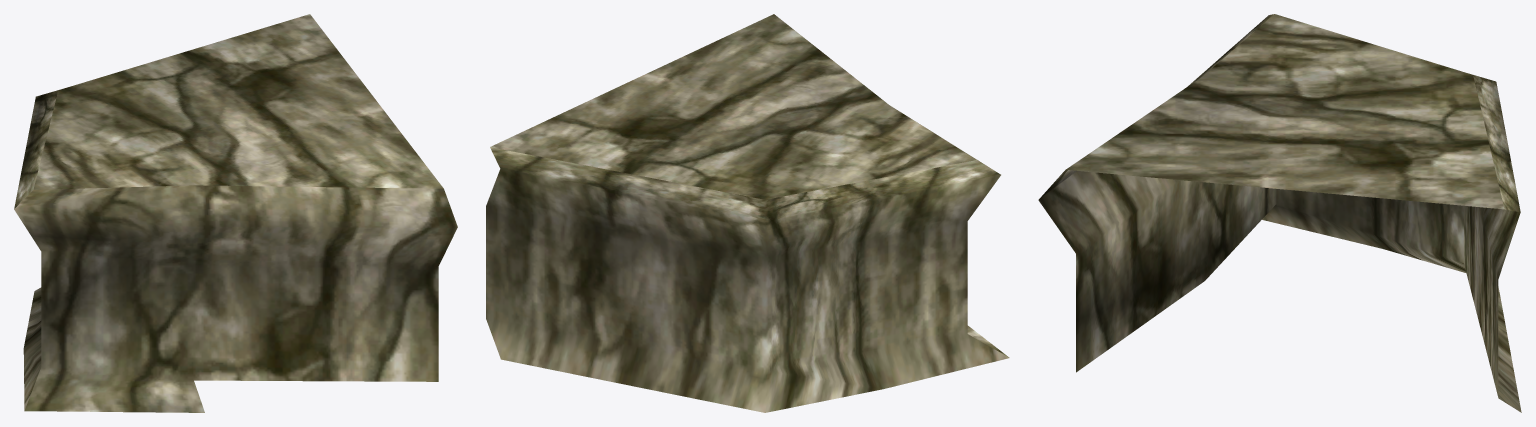
The model's file is CB_NEWPLAYSURFACE_CB_PLAYSURFACE142.fbx.
3 views of the same model, side by side, from view 1: azimuth 30°, elevation 25°; view 2: azimuth 150°, elevation 25°; view 3: azimuth 270°, elevation 25° (orthographic). The views are drawn at different scales.
Parts seen in each view (by area): view 1: CB_NEWPLAYSURFACE_CB_PLAYSURFACE142; view 2: CB_NEWPLAYSURFACE_CB_PLAYSURFACE142; view 3: CB_NEWPLAYSURFACE_CB_PLAYSURFACE142.
Part boxes in pixels (x1,y1,x2,y2): CB_NEWPLAYSURFACE_CB_PLAYSURFACE142: [14, 14, 457, 412]; CB_NEWPLAYSURFACE_CB_PLAYSURFACE142: [486, 14, 1009, 412]; CB_NEWPLAYSURFACE_CB_PLAYSURFACE142: [1038, 14, 1521, 412].
Bounding box in the file's own units: 75986 × 36013 × 73888.
Materials: 2 (2 with a texture image).
